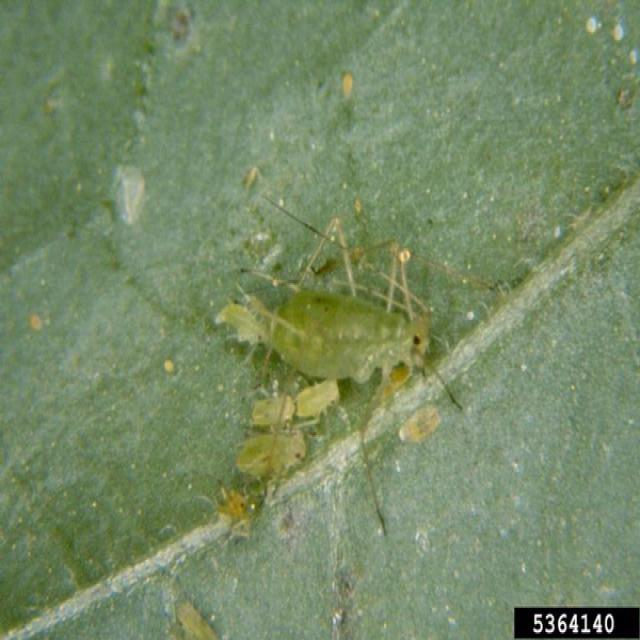Aphids: (198, 225, 457, 540)
